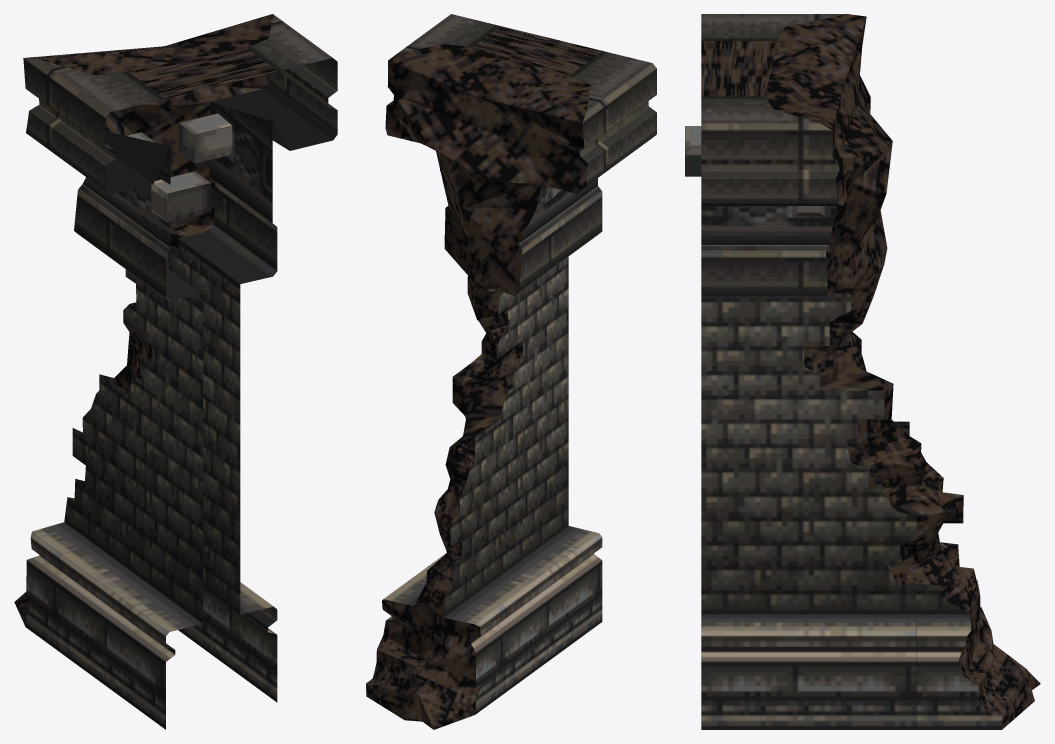
File: EnvMdrMD_Castle_A_Wall_A_Debris_A_RS.FBX
3 renders of one model, left to right at view 1: azimuth 30°, elevation 25°; view 2: azimuth 150°, elevation 25°; view 3: azimuth 270°, elevation 25°, orthographic. The views are drawn at different scales.
Parts seen in each view (by area): view 1: EnvMdrMD_Castle_A_Wall_A_Debris_A_RS; view 2: EnvMdrMD_Castle_A_Wall_A_Debris_A_RS; view 3: EnvMdrMD_Castle_A_Wall_A_Debris_A_RS.
Boxes of the visible parts, x1,y1,x2,y2 form: EnvMdrMD_Castle_A_Wall_A_Debris_A_RS: (14, 14, 337, 729); EnvMdrMD_Castle_A_Wall_A_Debris_A_RS: (366, 14, 656, 729); EnvMdrMD_Castle_A_Wall_A_Debris_A_RS: (685, 14, 1040, 729).
Size of the model in its own units: 250 by 650 by 331.
1 material, 1 textured.
